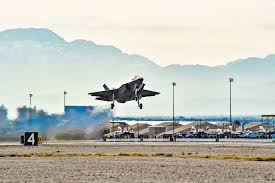fighter: (89, 72, 164, 110)
